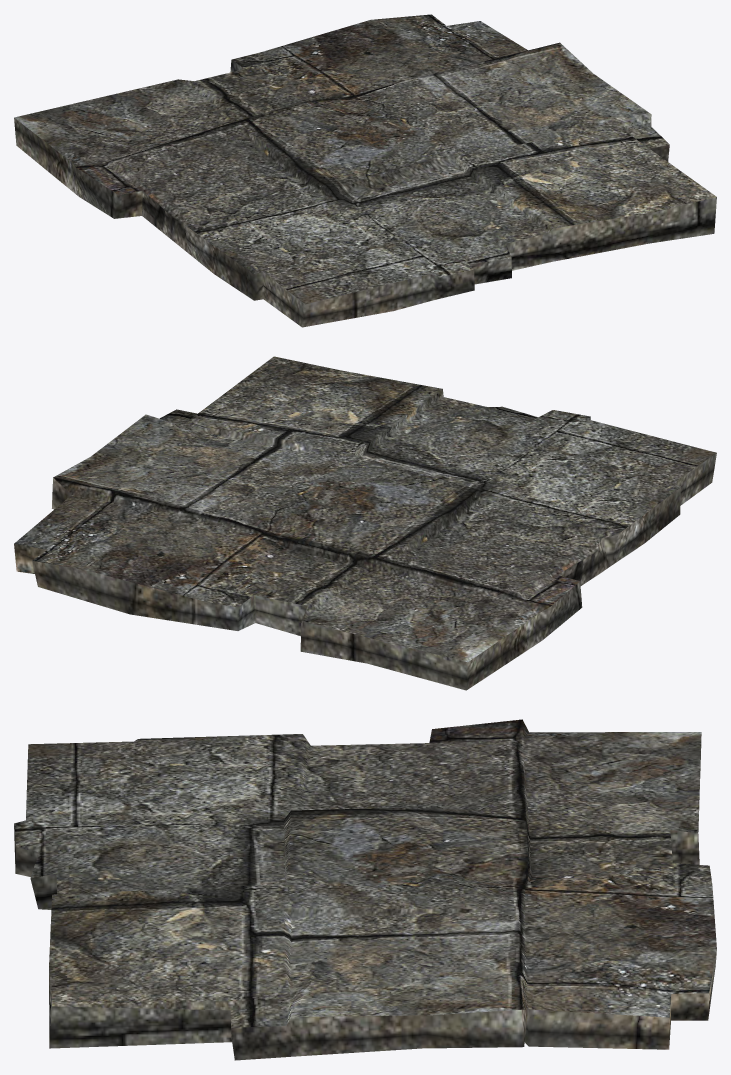
Rendered from Brick1.fbx.
The picture shows the model from 3 angles, top to bottom: view 1: azimuth 30°, elevation 25°; view 2: azimuth 150°, elevation 25°; view 3: azimuth 270°, elevation 25°; orthographic projection. The views are drawn at different scales.
Parts seen in each view (by area): view 1: Brick1; view 2: Brick1; view 3: Brick1.
Boxes of the visible parts, box(x1,y1,x2,y2) form: Brick1: box(14, 14, 716, 327); Brick1: box(14, 356, 716, 690); Brick1: box(14, 719, 716, 1060).
Bounding box in the file's own units: 7.18 × 0.6979 × 7.13.
